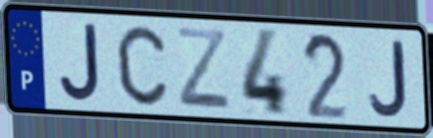2: (300, 30, 351, 121)
4: (238, 27, 293, 118)
C: (113, 22, 170, 108)
J: (57, 21, 104, 104), (367, 39, 410, 120)
Z: (173, 24, 234, 113)
